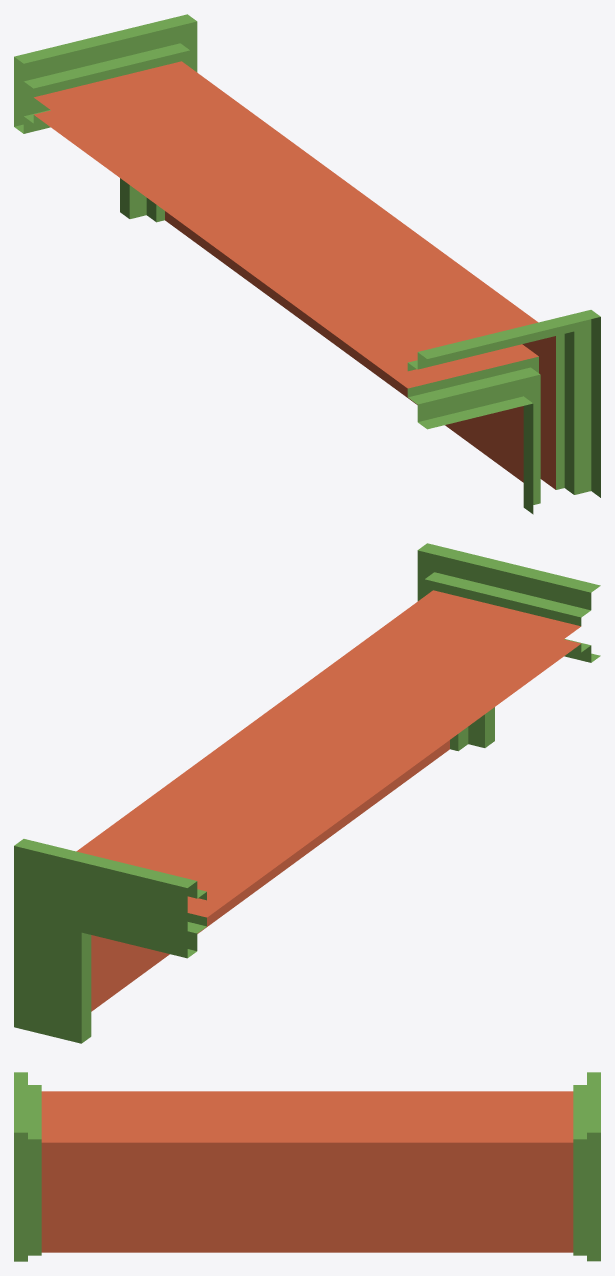
The model's file is Env_Wall_LB.fbx.
3 views of the same model, one above another, from view 1: azimuth 30°, elevation 25°; view 2: azimuth 150°, elevation 25°; view 3: azimuth 270°, elevation 25° (orthographic). The views are drawn at different scales.
Parts seen in each view (by area): view 1: Env_Wall_LB; view 2: Env_Wall_LB; view 3: Env_Wall_LB.
Part boxes in pixels (box(x1,y1,x2,y2)): Env_Wall_LB: box(14, 14, 600, 514); Env_Wall_LB: box(14, 543, 600, 1043); Env_Wall_LB: box(14, 1072, 600, 1261).
Size of the model in its own units: 0.6213 by 0.62 by 2.56.
